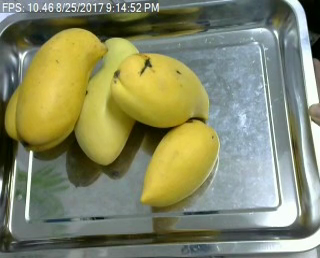Mango: (19, 26, 109, 155), (71, 38, 145, 167), (108, 52, 214, 126), (141, 119, 221, 206), (6, 68, 56, 144)
